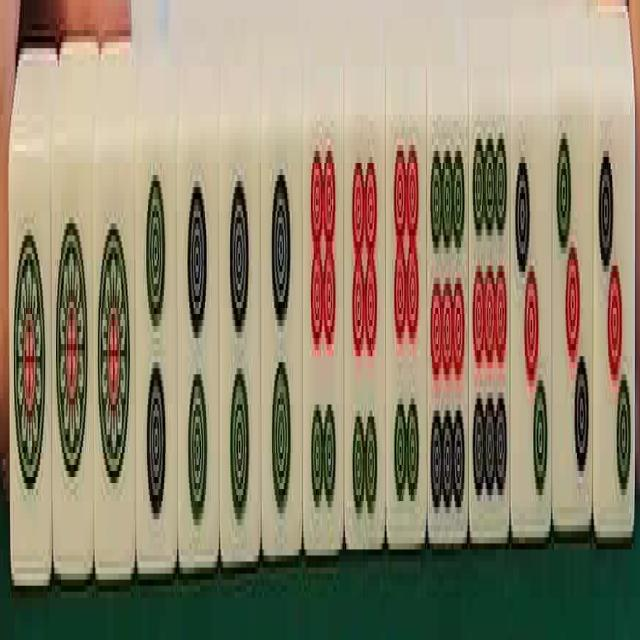t1: (92, 145, 136, 566), (50, 157, 91, 563), (9, 165, 50, 566)
t2: (260, 149, 302, 549), (138, 153, 176, 550), (221, 161, 258, 542), (181, 161, 216, 550)
t3: (551, 113, 591, 529), (593, 93, 633, 502), (512, 117, 548, 521)
t6: (386, 113, 426, 536), (345, 125, 383, 532), (304, 141, 342, 538)
t9: (470, 113, 509, 521), (430, 129, 467, 529)
